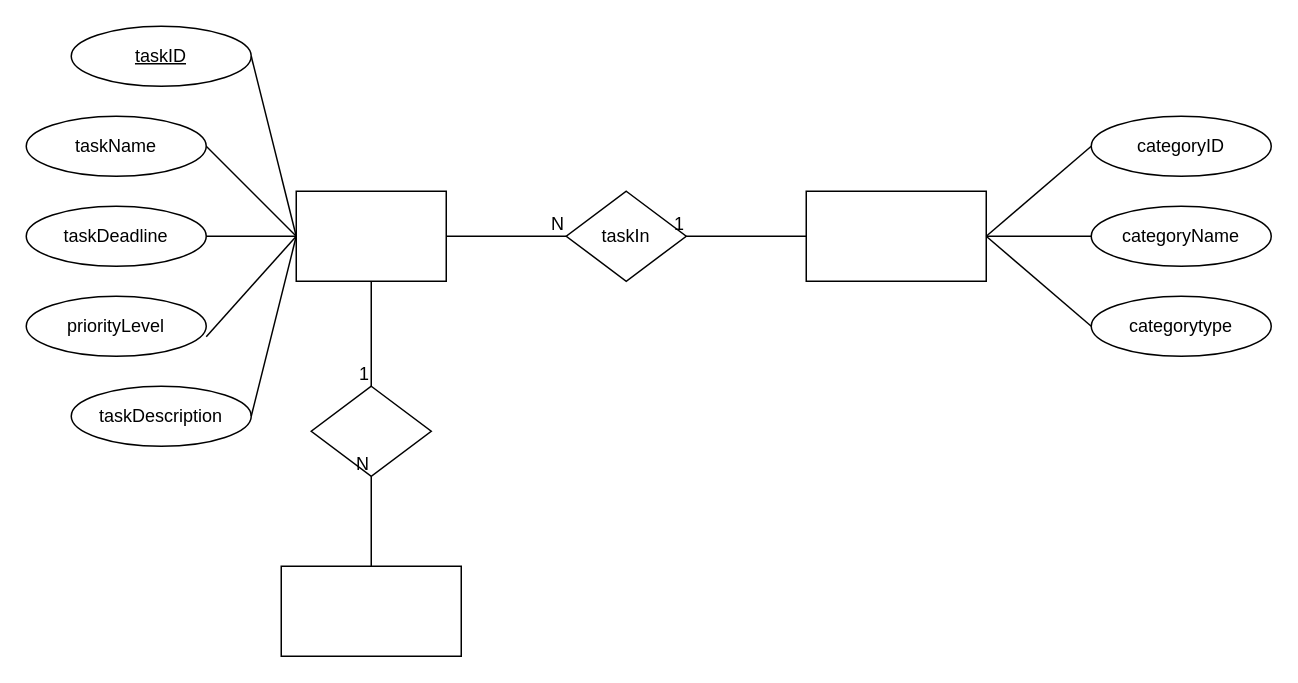
The diagram is 1298 pixels wide and 683 high, and some of its shapes have lost their labels. Each missing label, with the centre of its shape:
Category: point (895, 235)
subTasks: point (370, 610)
Task: point (370, 235)
